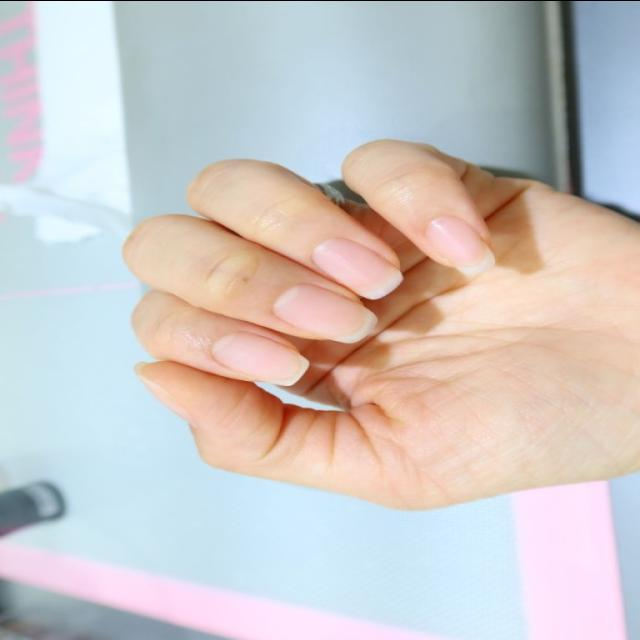Nail: (274, 282, 377, 341), (313, 238, 401, 298), (212, 331, 309, 385), (426, 215, 494, 274)
